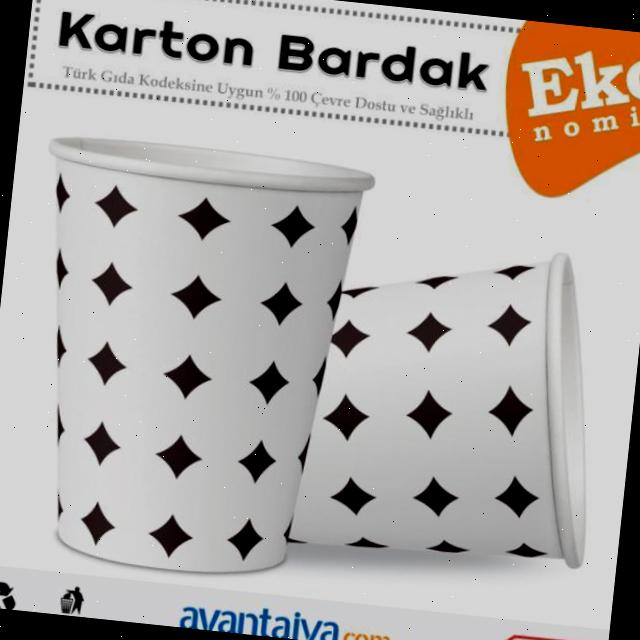trash: (1, 136, 366, 584)
